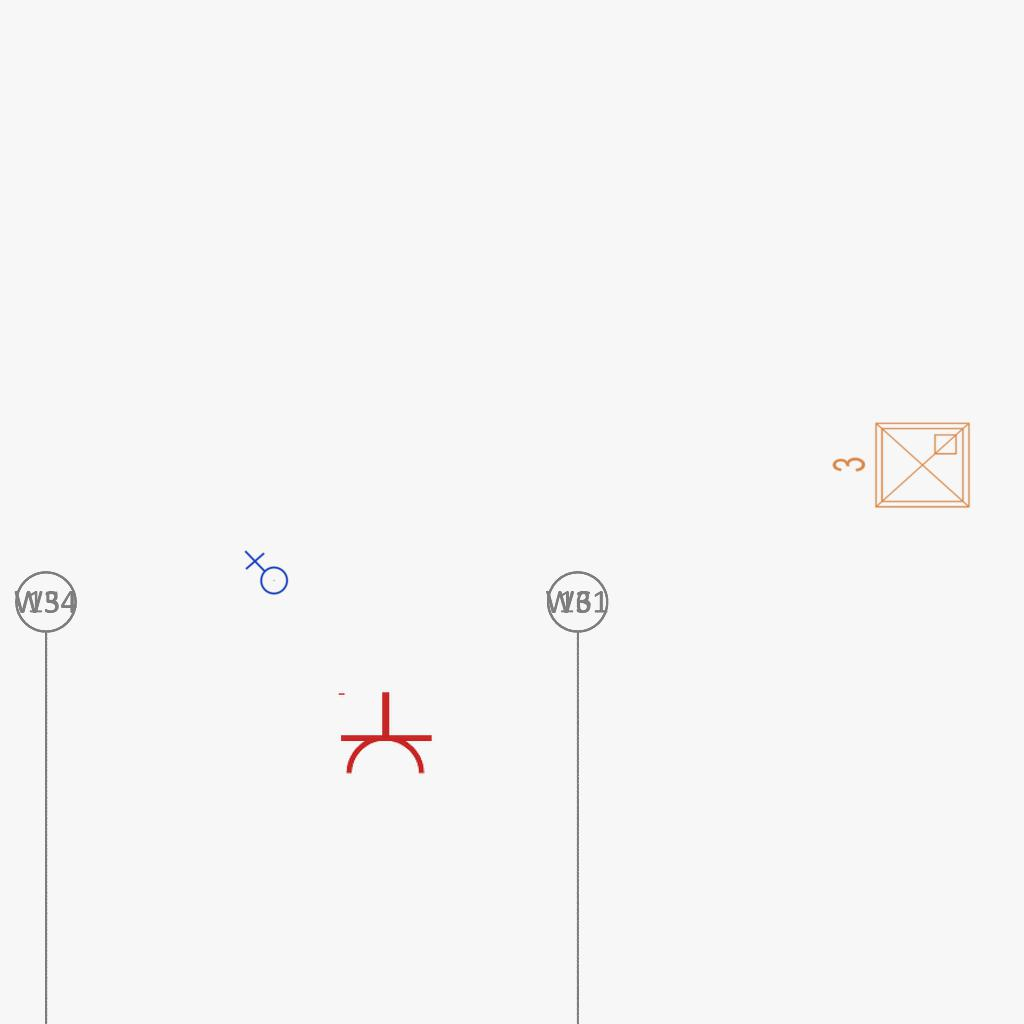Einbaudownlights_LED_Konferenzraeume: (827, 415, 977, 519)
Elektroanschluss_allgemein_230V_Geraeteanschlussdose_230V: (242, 550, 289, 599)
Schukosteckdose_einfach: (334, 690, 434, 777)
